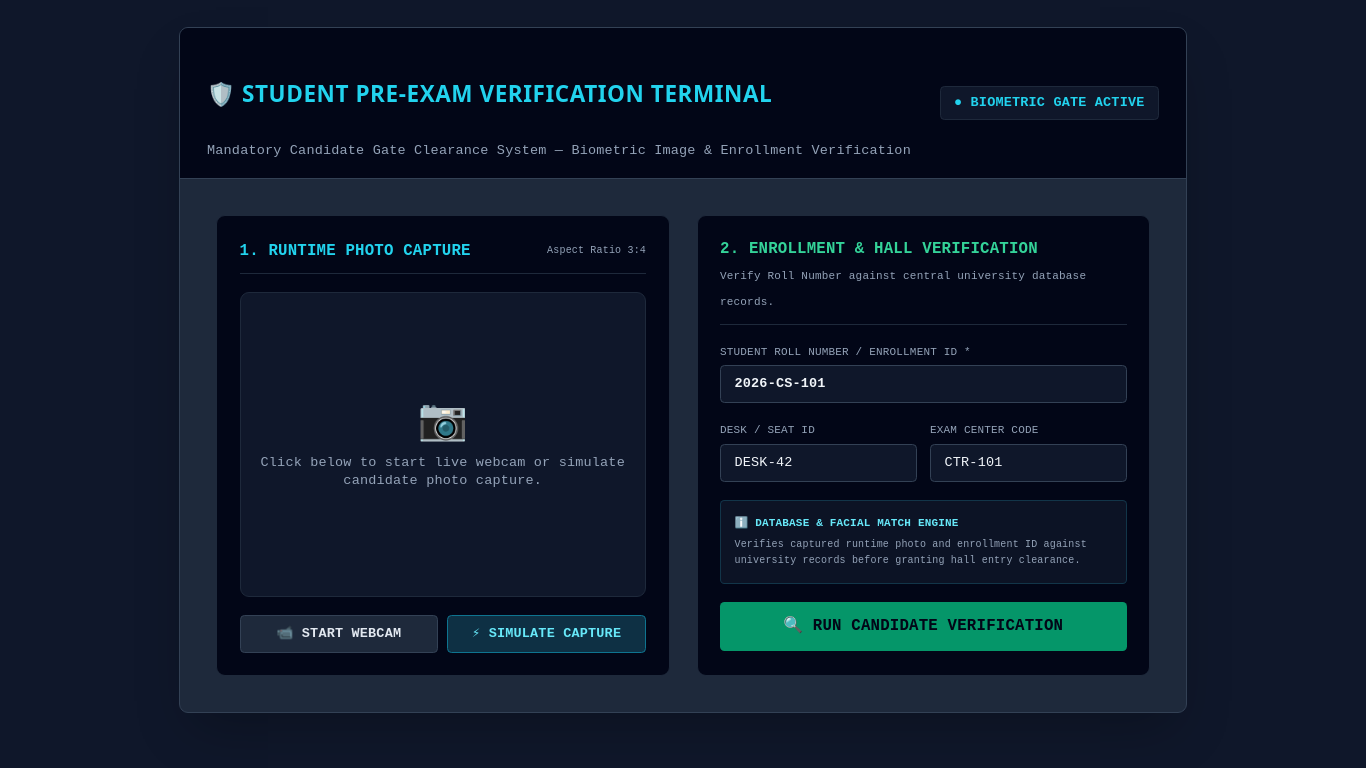
Scenario: VerificationTerminal Component › handles simulated camera capture and submits student verification
This screenshot has width=1366, height=768.
Click the button "⚡ SIMULATE CAPTURE" at {"x": 547, "y": 634}, box [447,615,646,653]
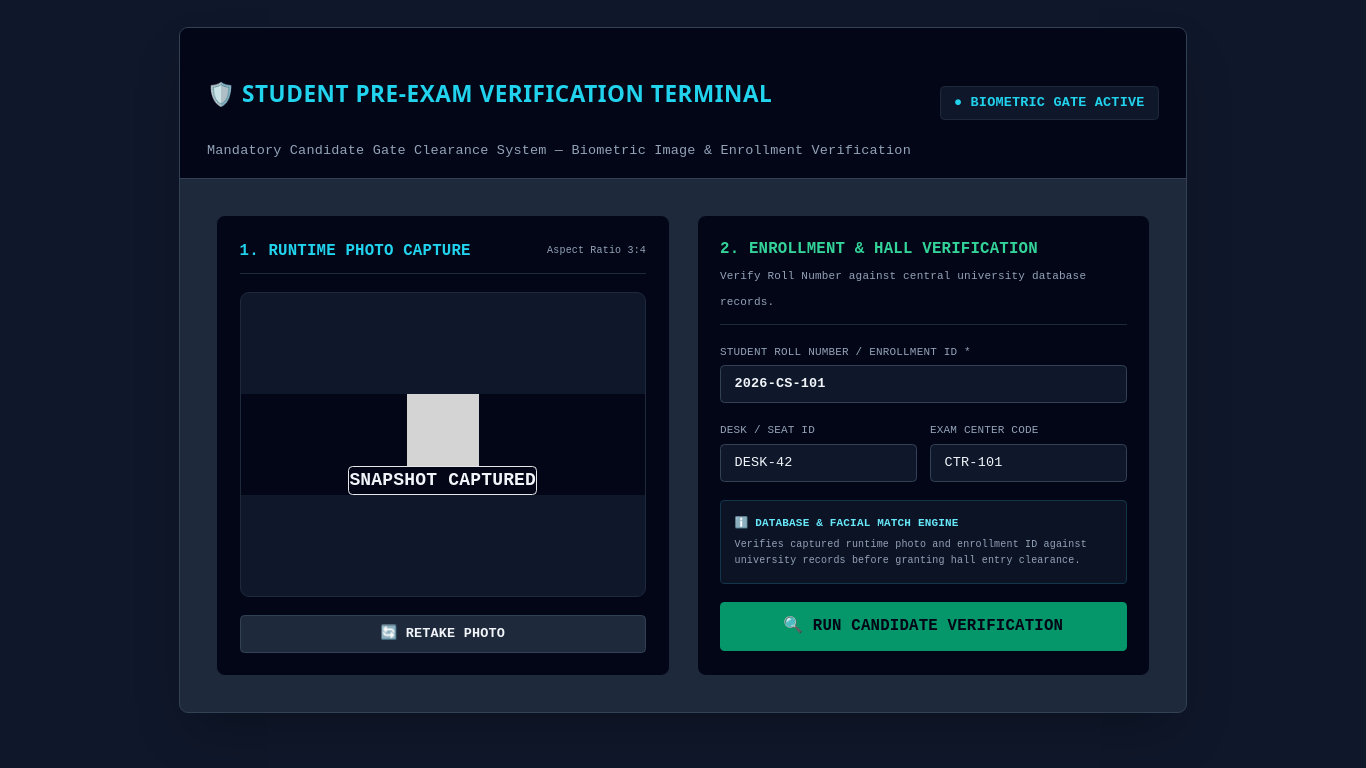
expect the text "SNAPSHOT CAPTURED" is shown: met, box [348,466,537,495]
Click the button "🔍 RUN CANDIDATE VERIFICATION" at {"x": 923, "y": 627}, box [720,602,1126,651]
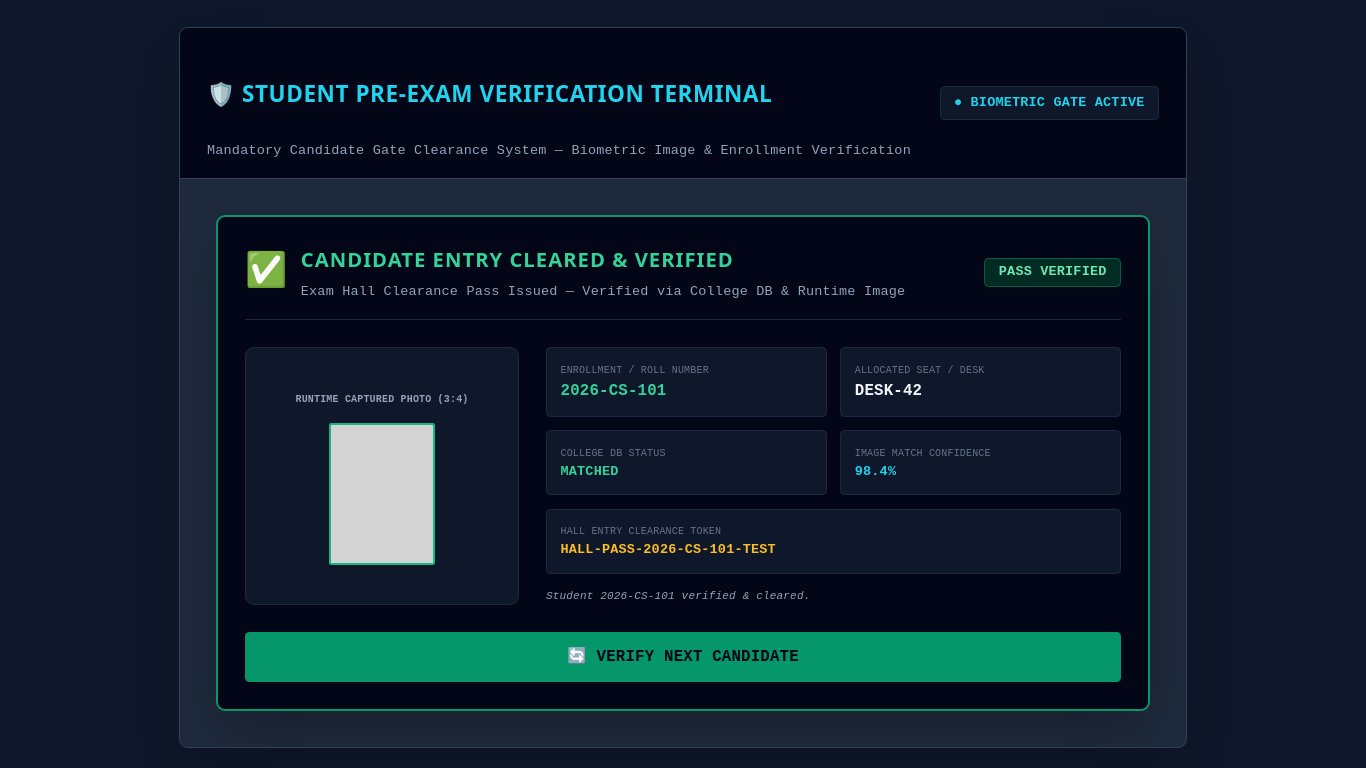
expect the heading "CANDIDATE ENTRY CLEARED & VERIFIED" is shown: met, box [301,244,734,272]
expect the text "HALL-PASS-2026-CS-101-TEST" is shown: met, box [560,542,776,557]
